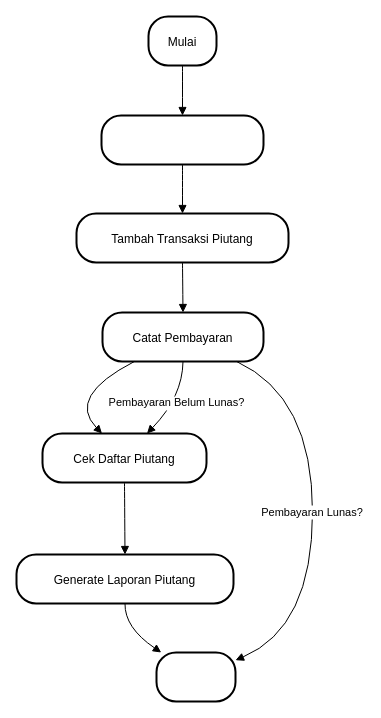
The diagram is 381 pixels wide and 718 high, and some of its shapes have lost their labels. The centre of each missing label's shape, as x and y in pixels:
Selesai: the point at 195,676
Tambah Pelanggan: the point at 182,139
